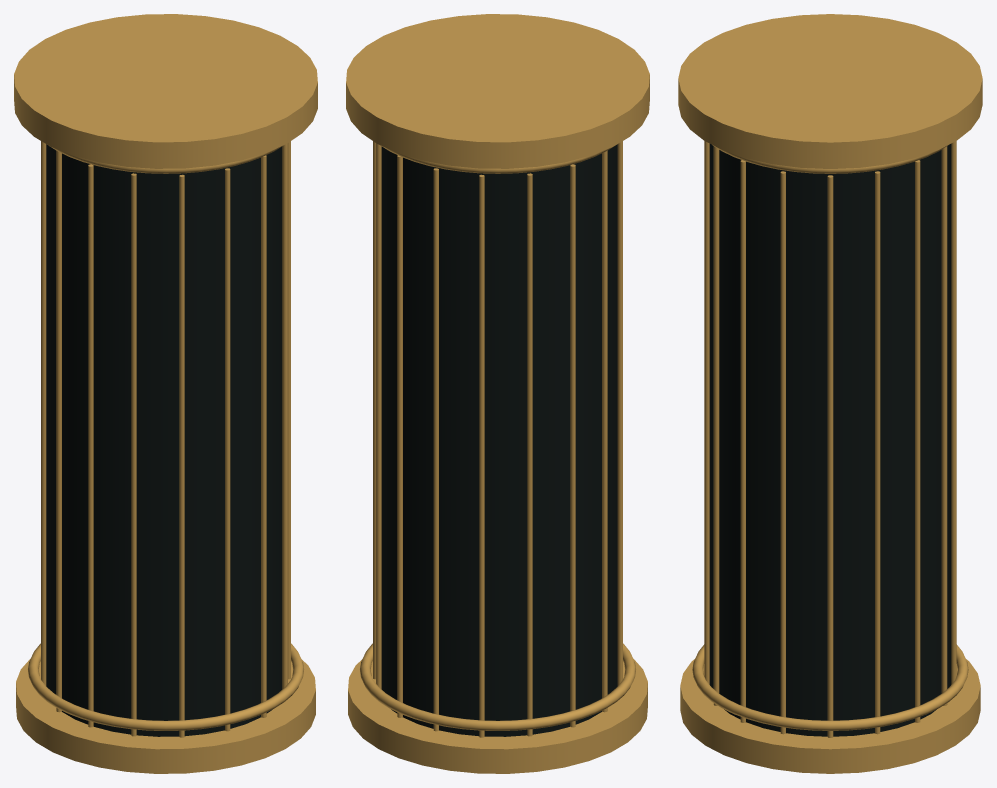
Rendered from column.glb.
The picture shows the model from 3 angles, left to right: view 1: azimuth 30°, elevation 25°; view 2: azimuth 150°, elevation 25°; view 3: azimuth 270°, elevation 25°; orthographic projection.
Visible parts, largest first — view 1: column; view 2: column; view 3: column.
Boxes of the visible parts, box(x1,y1,x2,y2) form: column: box(14, 14, 317, 773); column: box(346, 14, 649, 773); column: box(678, 14, 982, 773).
Size of the model in its own units: 1.56 by 3.58 by 1.56.
